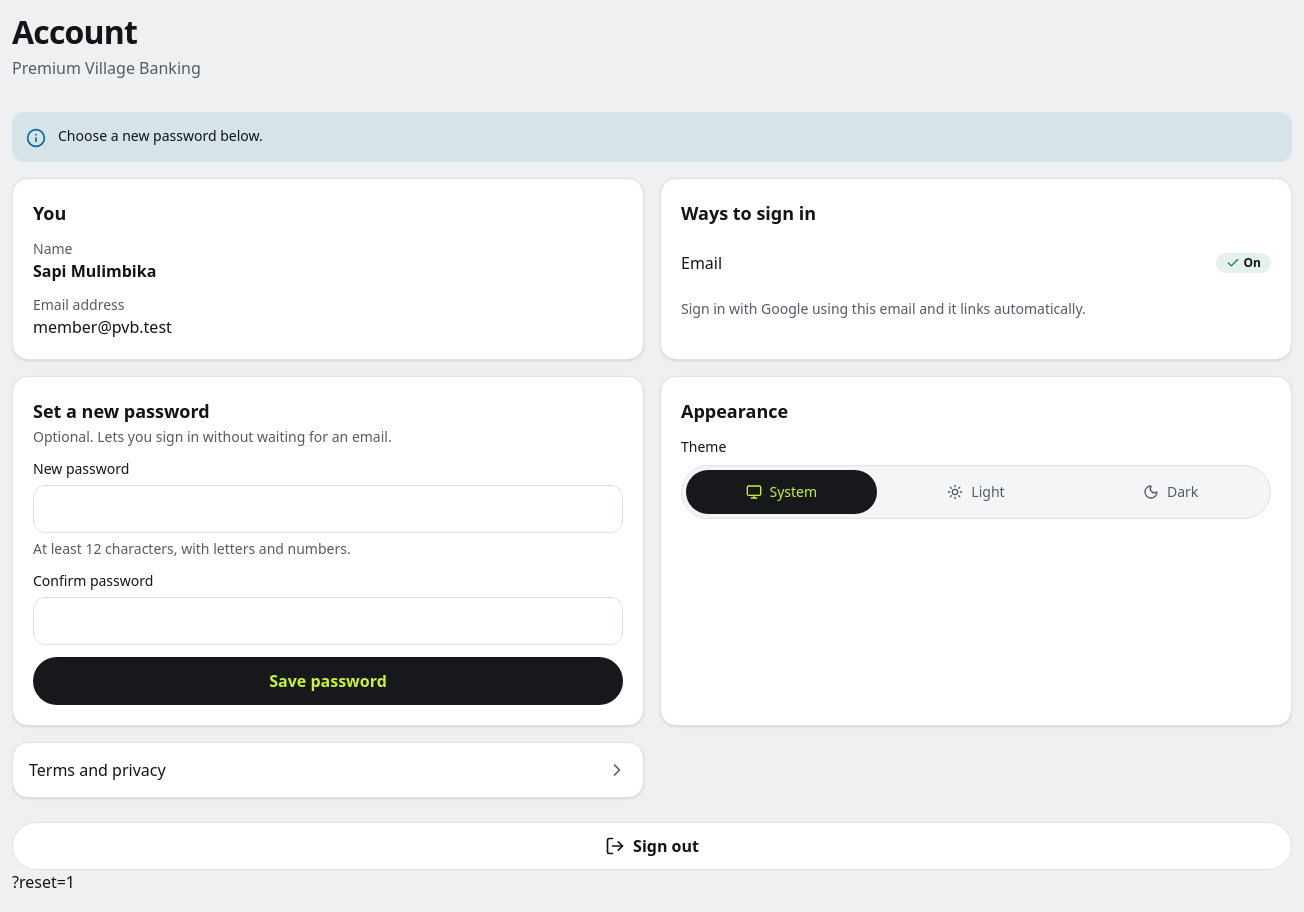
Scenario: saving a password: sent once, fields cleared, confirmation toast, and the reset prompt goes away
Type "village2027bank" into the password field labelled "New password" at (328, 509), box 33,485 -> 623,533
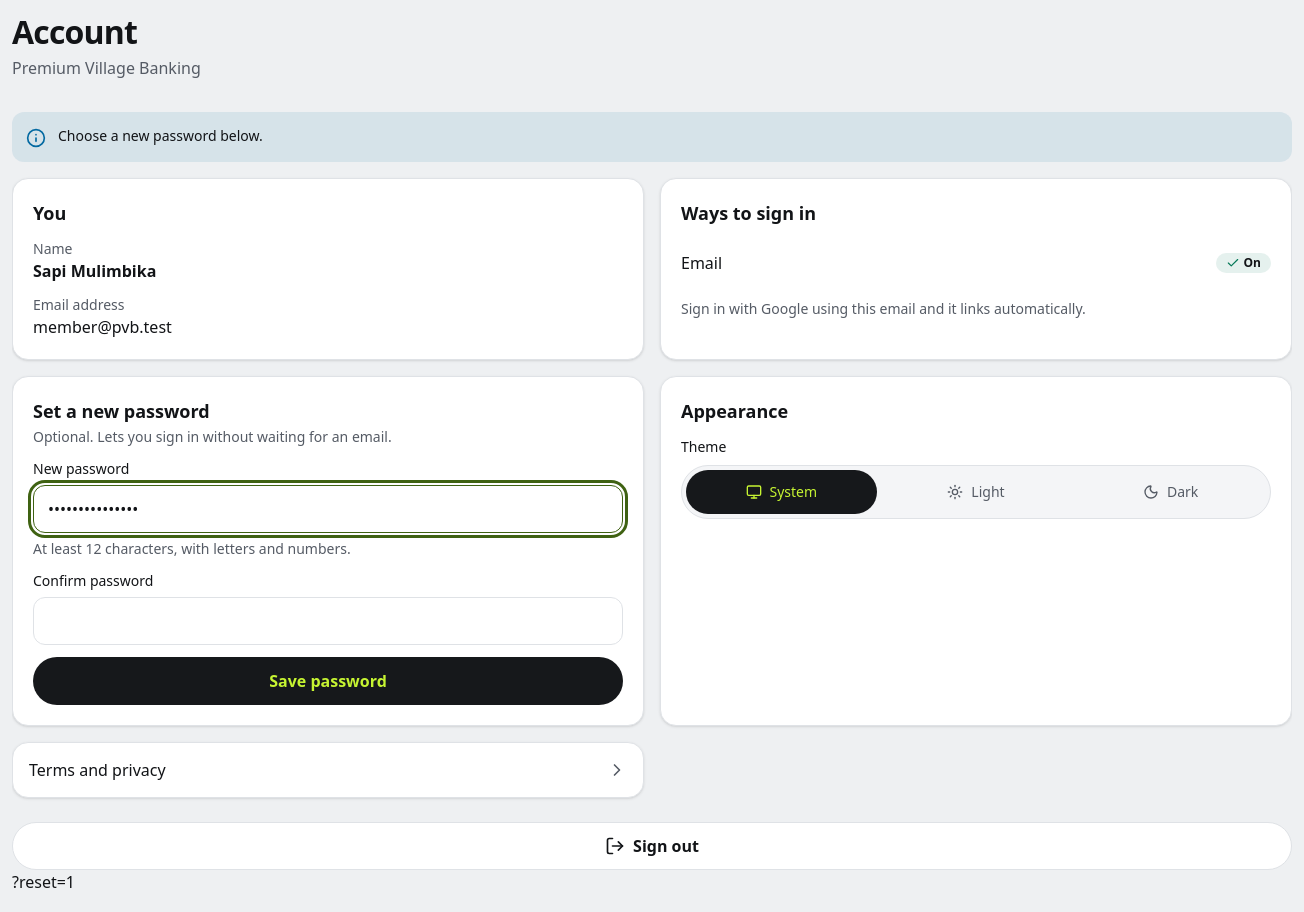
Type "village2027bank" into the password field labelled "Confirm password" at (328, 621), box 33,597 -> 623,645
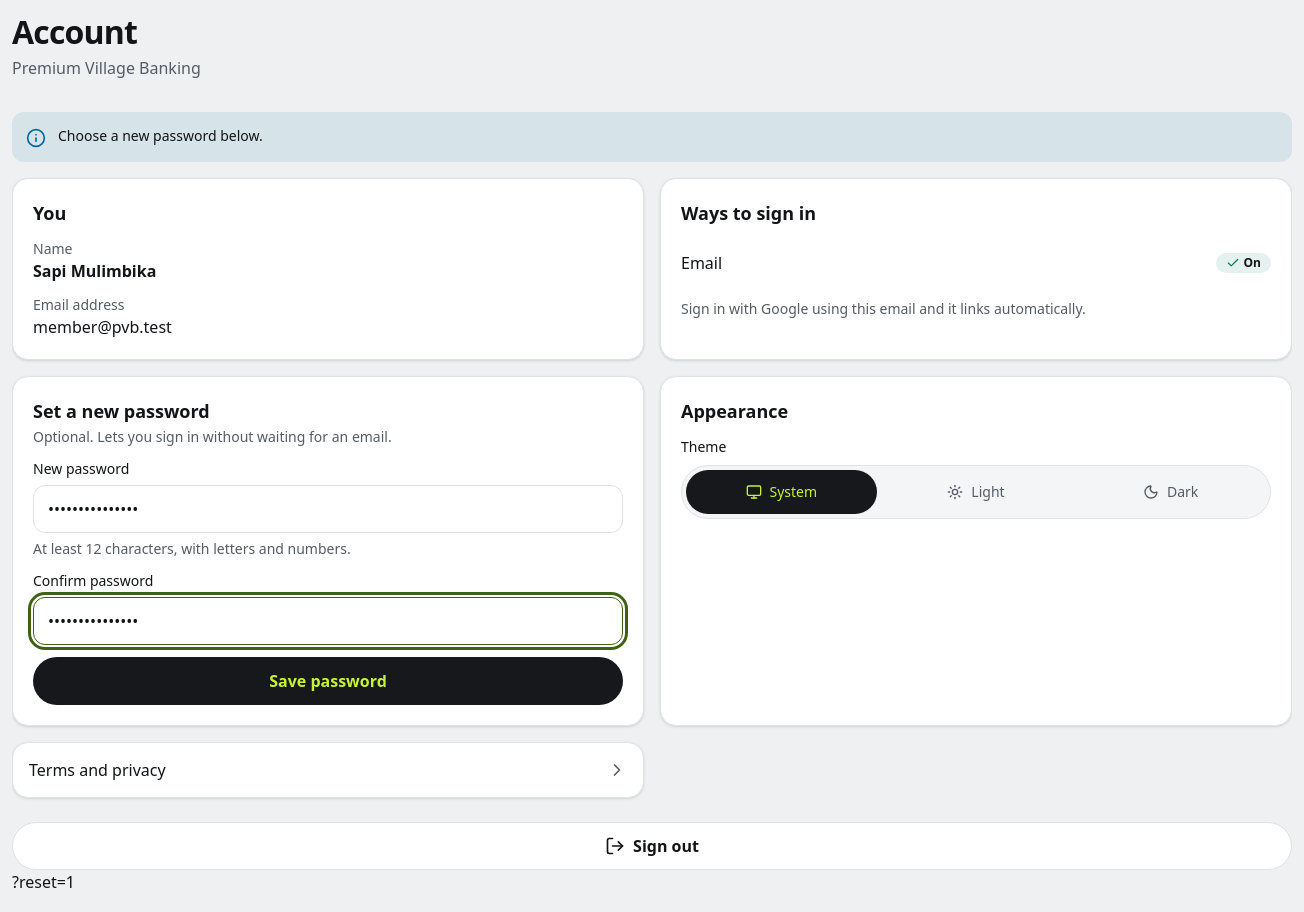
Click the button "Save password" at (328, 681), box 33,657 -> 623,705
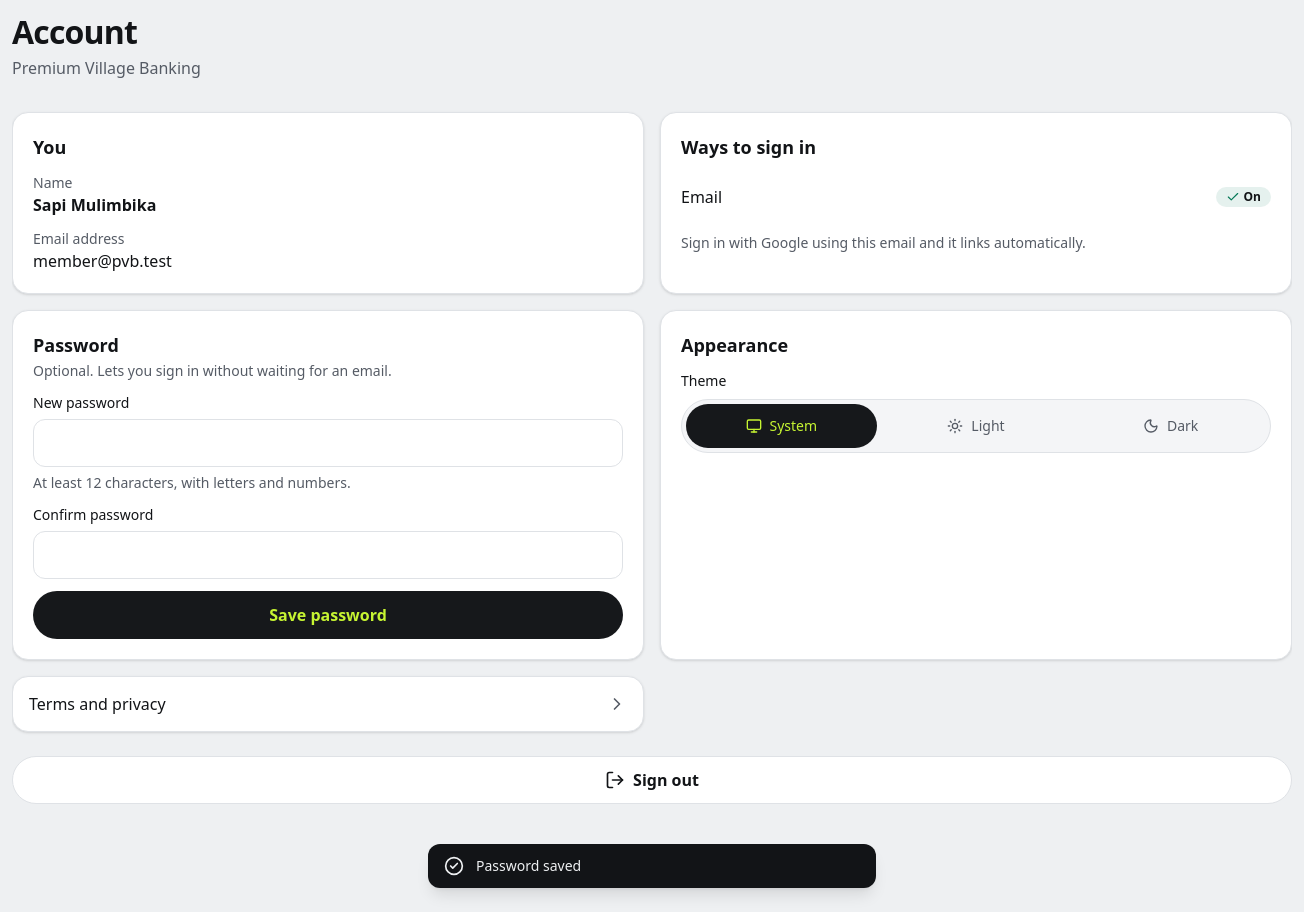
Expected: the text "Password saved" is shown, 476,856 -> 581,875
Expected: the password field labelled "New password" is empty, 33,419 -> 623,467
Expected: the password field labelled "Confirm password" is empty, 33,531 -> 623,579
